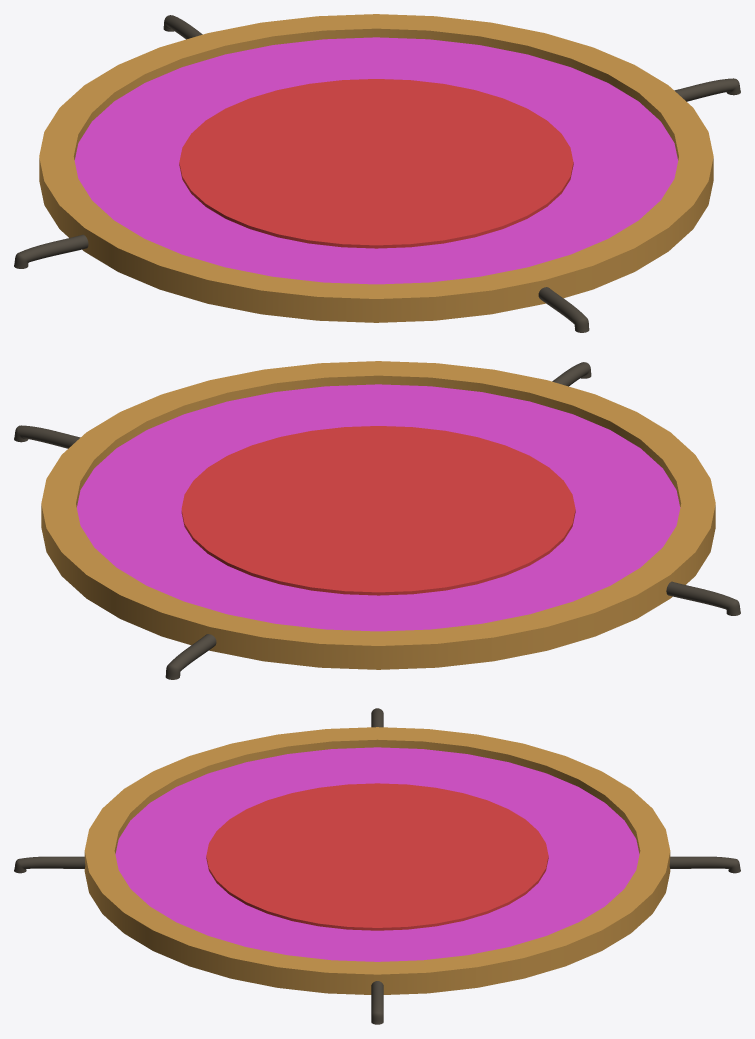
Rendered from trampoline2.fbx.
3 views of the same model, one above another, from view 1: azimuth 30°, elevation 25°; view 2: azimuth 150°, elevation 25°; view 3: azimuth 270°, elevation 25° (orthographic). The views are drawn at different scales.
Visible parts, largest first — view 1: trampoline; view 2: trampoline; view 3: trampoline.
Boxes of the visible parts, x1,y1,x2,y2 form: trampoline: (14,14,740,332); trampoline: (14,361,740,679); trampoline: (14,708,740,1024).
Bounding box in the file's own units: 496 × 15.59 × 496.
